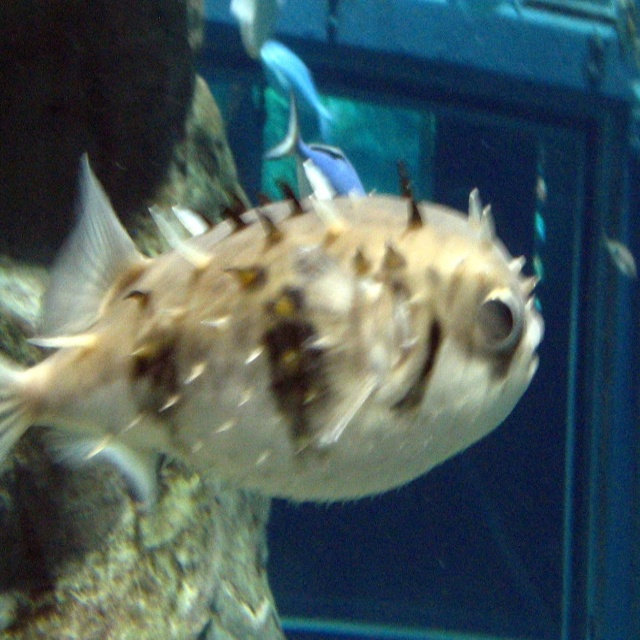Fish: (12, 137, 537, 528)
